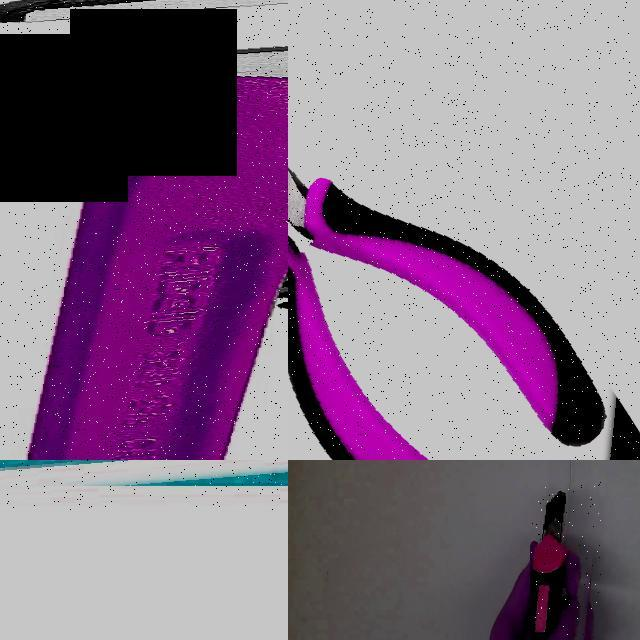estilete: (526, 492, 572, 639)
